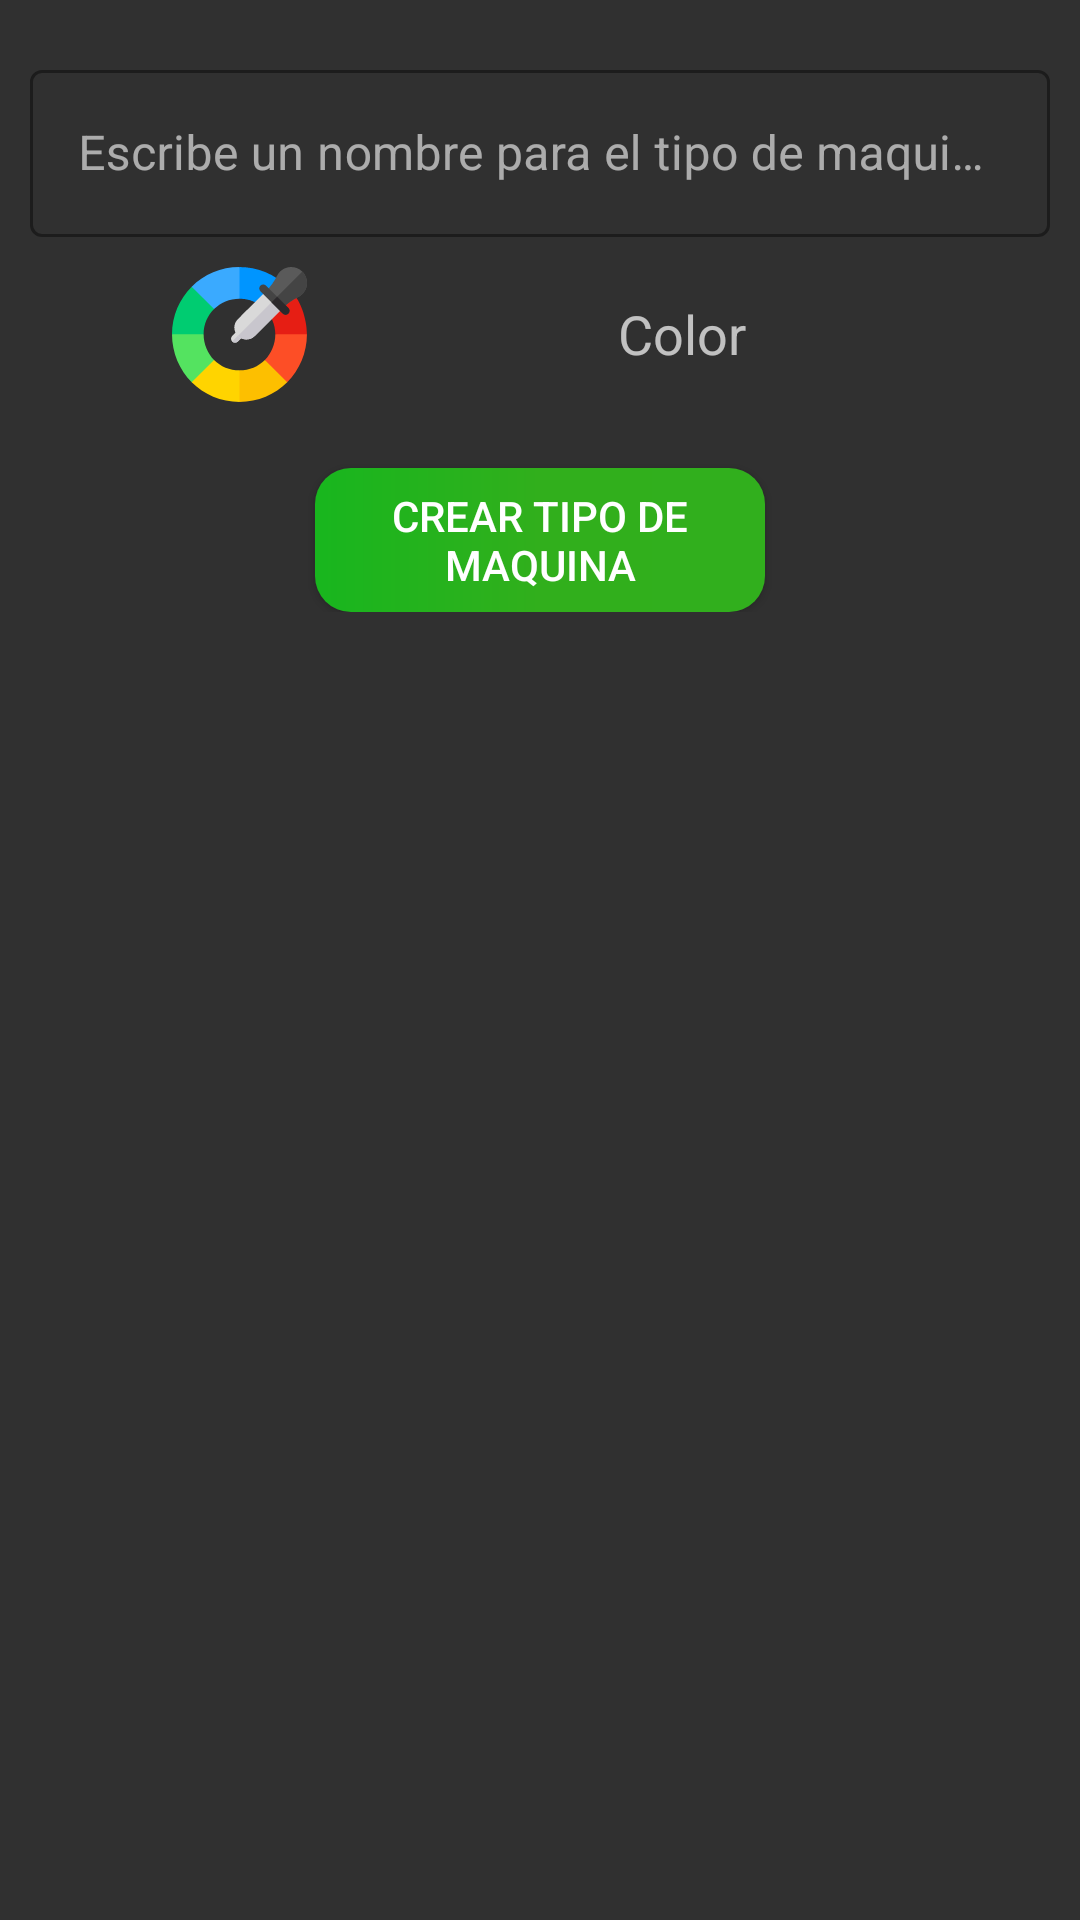

Icon click points for this 1080x1920 phone screenshot, format (x,y):
select: (239,334)
